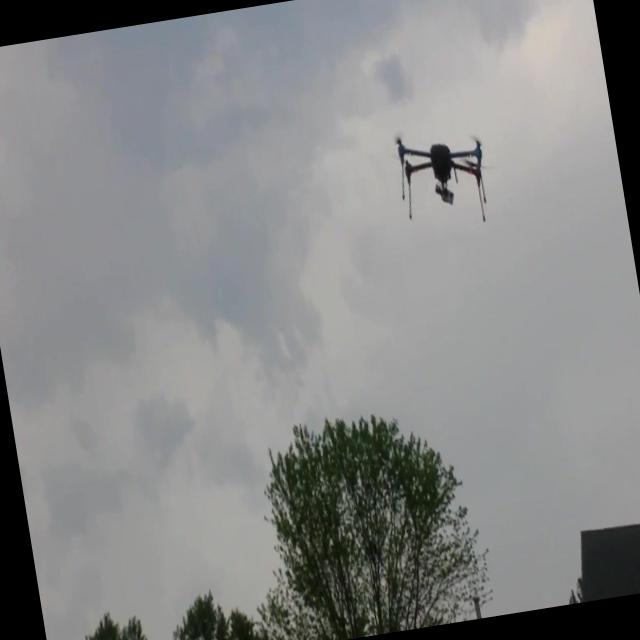drone: (388, 120, 496, 236)
